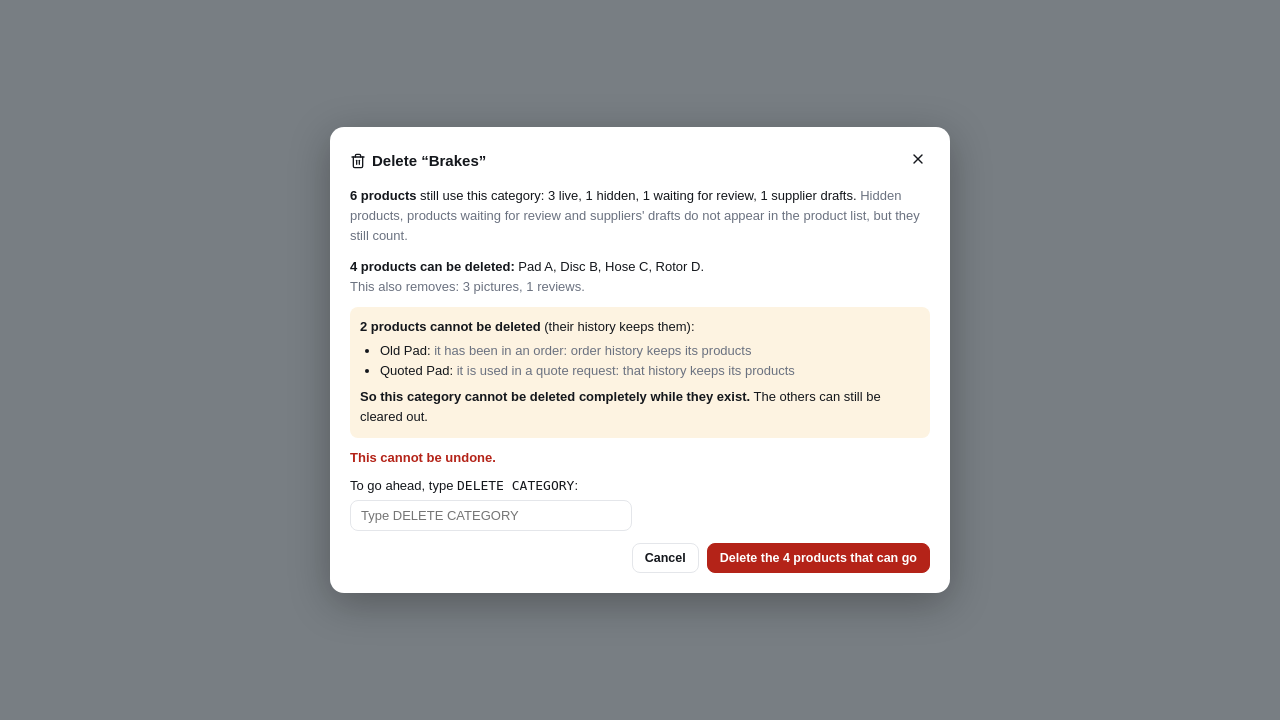
it: clearing it out › when everything went, the category was deleted too
This screenshot has width=1280, height=720.
In the field named "Type to confirm": (491, 515) x1=350 y1=500 x2=632 y2=531, type "DELETE CATEGORY"
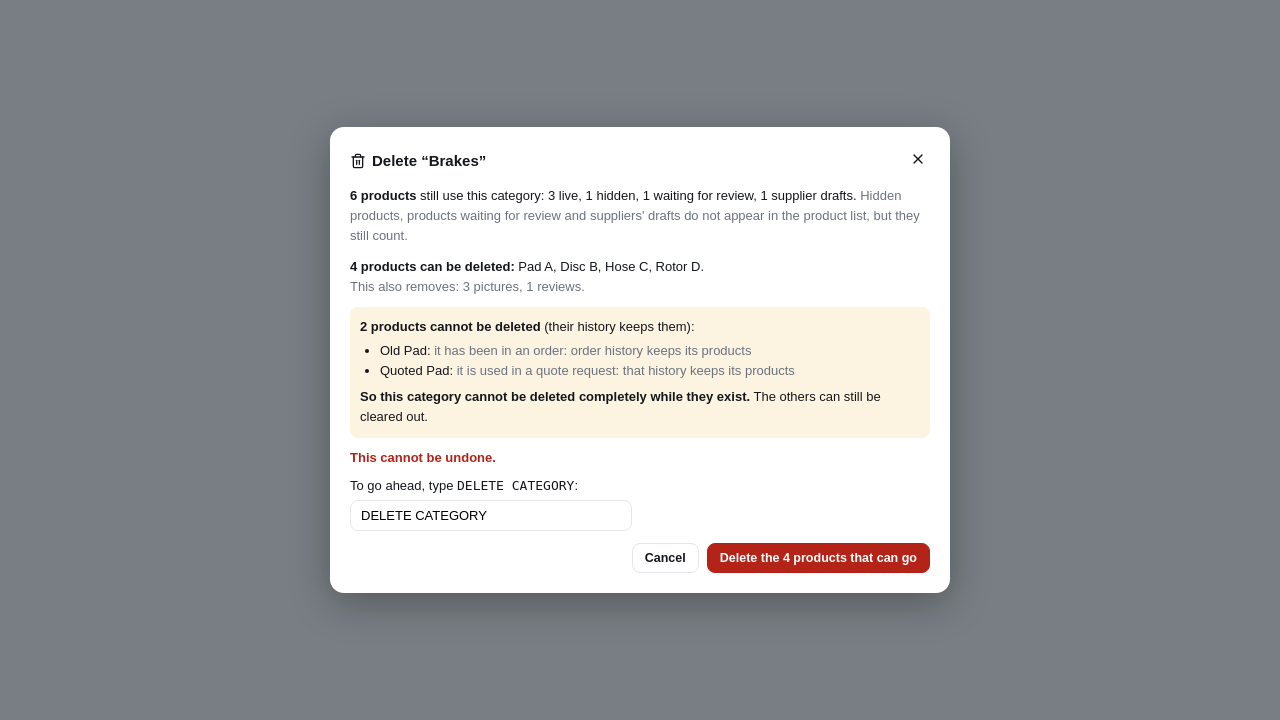
Click the button "Delete the 4 products that can go": (818, 558) x1=707 y1=543 x2=930 y2=573
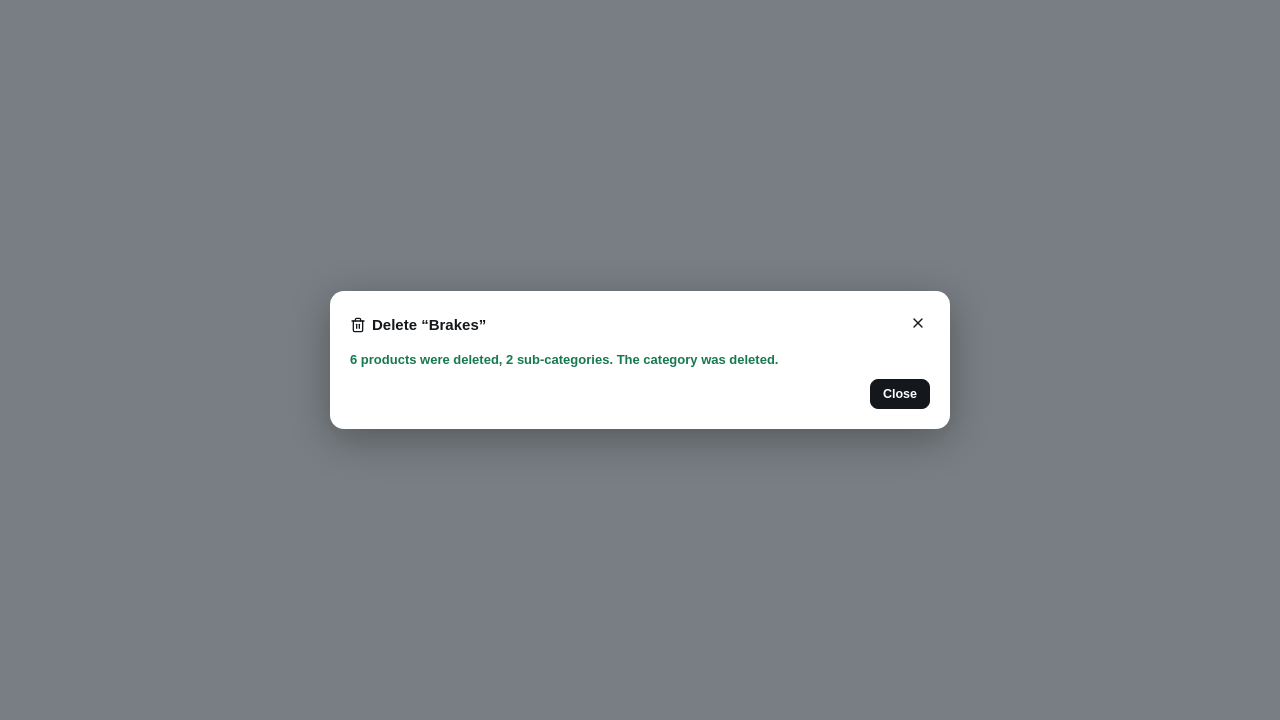
Expected: the text "6 products were deleted, 2 sub-categories. The category was deleted." is shown, x1=350 y1=352 x2=778 y2=367
